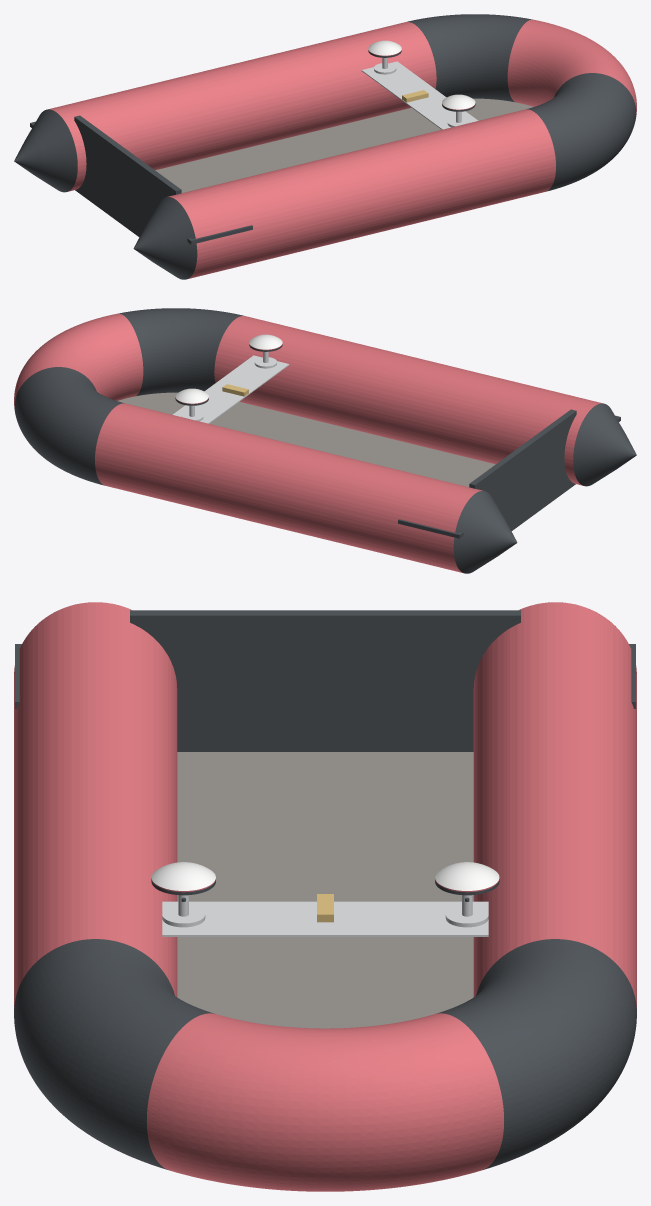
The model's file is boat_mobile.glb.
3 renders of one model, top to bottom at view 1: azimuth 30°, elevation 25°; view 2: azimuth 150°, elevation 25°; view 3: azimuth 270°, elevation 25°, orthographic. The views are drawn at different scales.
Parts seen in each view (by area): view 1: base_link, base_link_01, base_link_02, board_link, rtk_right_link_02, rtk_left_link_02; view 2: base_link, base_link_01, base_link_02, board_link, rtk_left_link_02, rtk_right_link_02; view 3: base_link, base_link_01, base_link_02, board_link, rtk_left_link_02, rtk_right_link_02, rtk_left_mount_link, rtk_right_mount_link.
Boxes of the visible parts, bbox=[...] form: base_link: bbox=[49, 19, 636, 278]; base_link_01: bbox=[14, 14, 636, 279]; base_link_02: bbox=[155, 98, 533, 192]; board_link: bbox=[361, 61, 478, 129]; rtk_right_link_02: bbox=[442, 94, 475, 109]; rtk_left_link_02: bbox=[368, 40, 401, 55]; base_link: bbox=[14, 313, 601, 572]; base_link_01: bbox=[14, 308, 636, 573]; base_link_02: bbox=[117, 392, 495, 486]; board_link: bbox=[172, 355, 289, 423]; rtk_left_link_02: bbox=[175, 388, 208, 403]; rtk_right_link_02: bbox=[249, 334, 282, 349]; base_link: bbox=[14, 602, 636, 1191]; base_link_01: bbox=[14, 602, 636, 1169]; base_link_02: bbox=[177, 752, 473, 1028]; board_link: bbox=[162, 901, 488, 936]; rtk_left_link_02: bbox=[435, 862, 499, 890]; rtk_right_link_02: bbox=[151, 862, 215, 890]; rtk_left_mount_link: bbox=[445, 895, 488, 927]; rtk_right_mount_link: bbox=[162, 895, 205, 927].
Size of the model in its own units: 2.8 by 0.4374 by 1.45.
